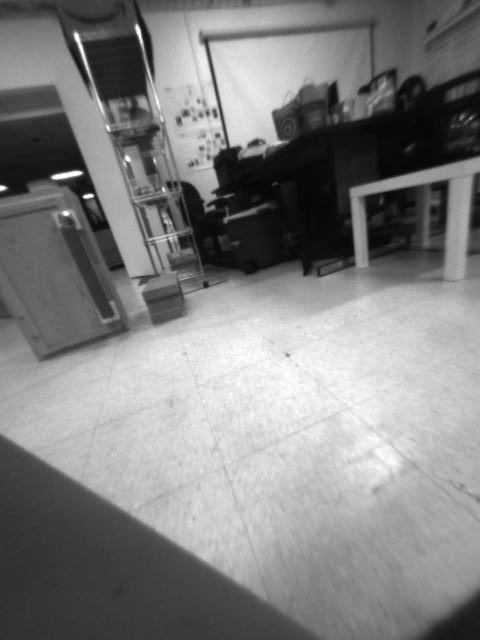coffee_pot: (435, 67, 480, 163)
